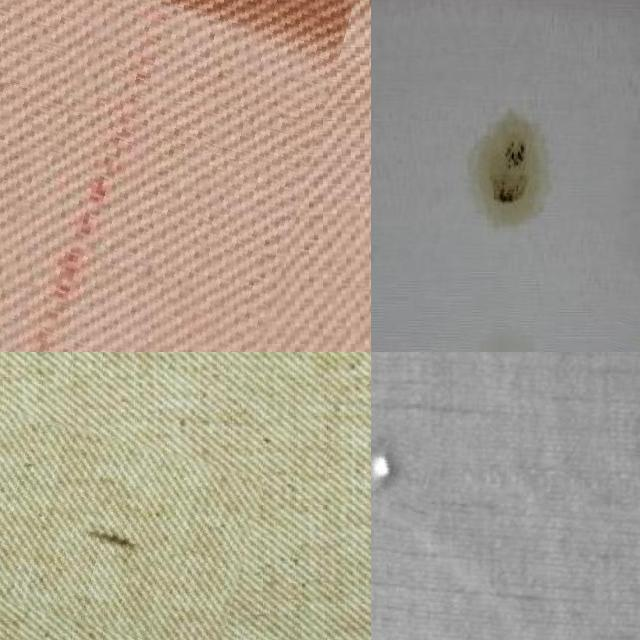Thread_other: (421, 94, 597, 268), (416, 299, 581, 352)
other: (371, 417, 444, 525)
stains: (0, 424, 254, 640)
